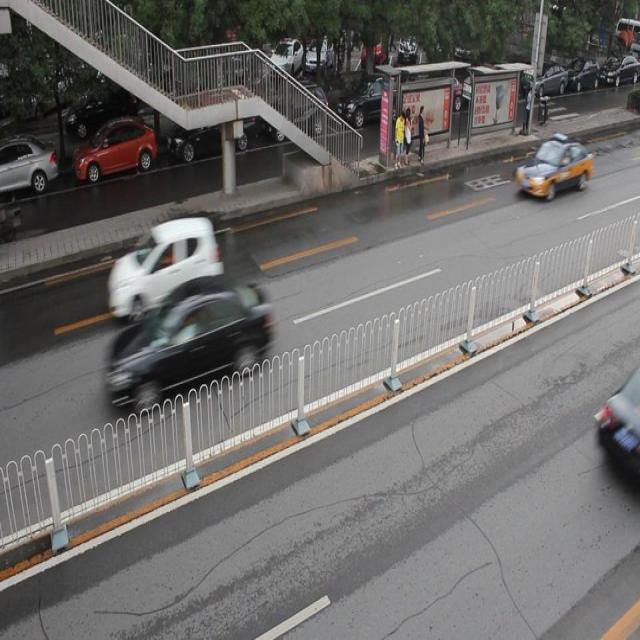car: (106, 278, 268, 407), (106, 218, 222, 324), (168, 89, 256, 156), (74, 119, 158, 184), (516, 134, 591, 198), (336, 72, 405, 130), (264, 84, 329, 142), (1, 137, 58, 196)
